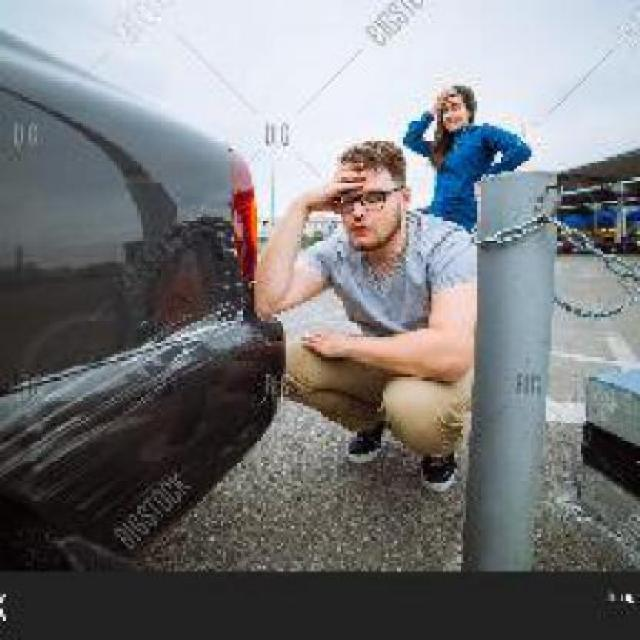dent-or-scratch: (0, 346, 203, 500)
